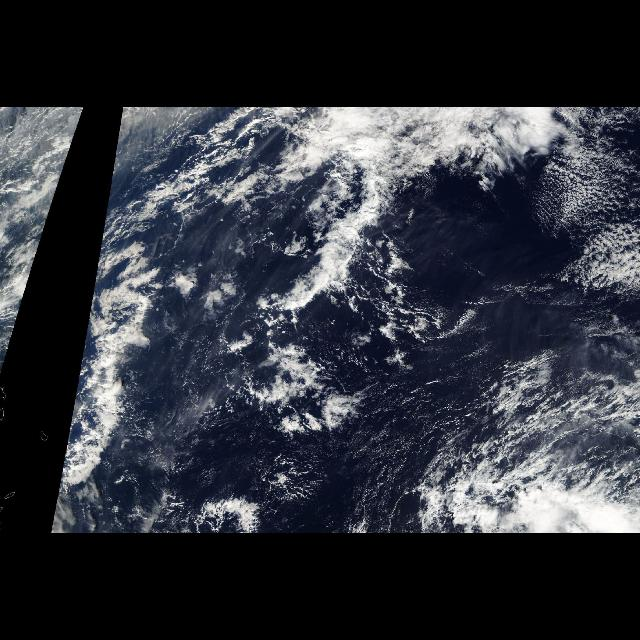Sugar: (346, 346, 484, 532), (132, 313, 254, 487), (548, 148, 640, 298)
